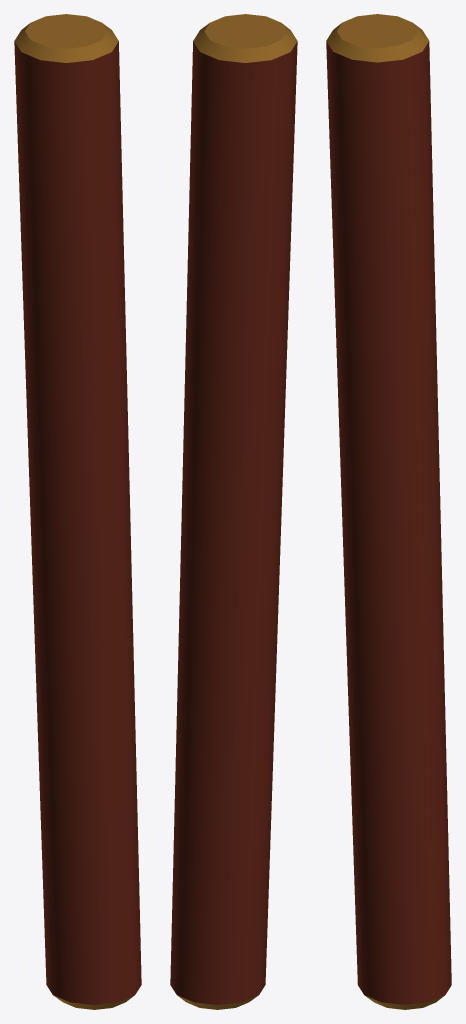
The model's file is FenceWoodStick01.fbx.
3 views of the same model, side by side, from view 1: azimuth 30°, elevation 25°; view 2: azimuth 150°, elevation 25°; view 3: azimuth 330°, elevation 25° (orthographic).
Visible parts, largest first — view 1: WoodStick01; view 2: WoodStick01; view 3: WoodStick01.
Part boxes in pixels (left/top/right/bottom): WoodStick01: left=14, top=14, right=141, bottom=1009; WoodStick01: left=170, top=14, right=297, bottom=1009; WoodStick01: left=326, top=14, right=451, bottom=1009.
Bounding box in the file's own units: 11.06 × 90 × 8.79.
